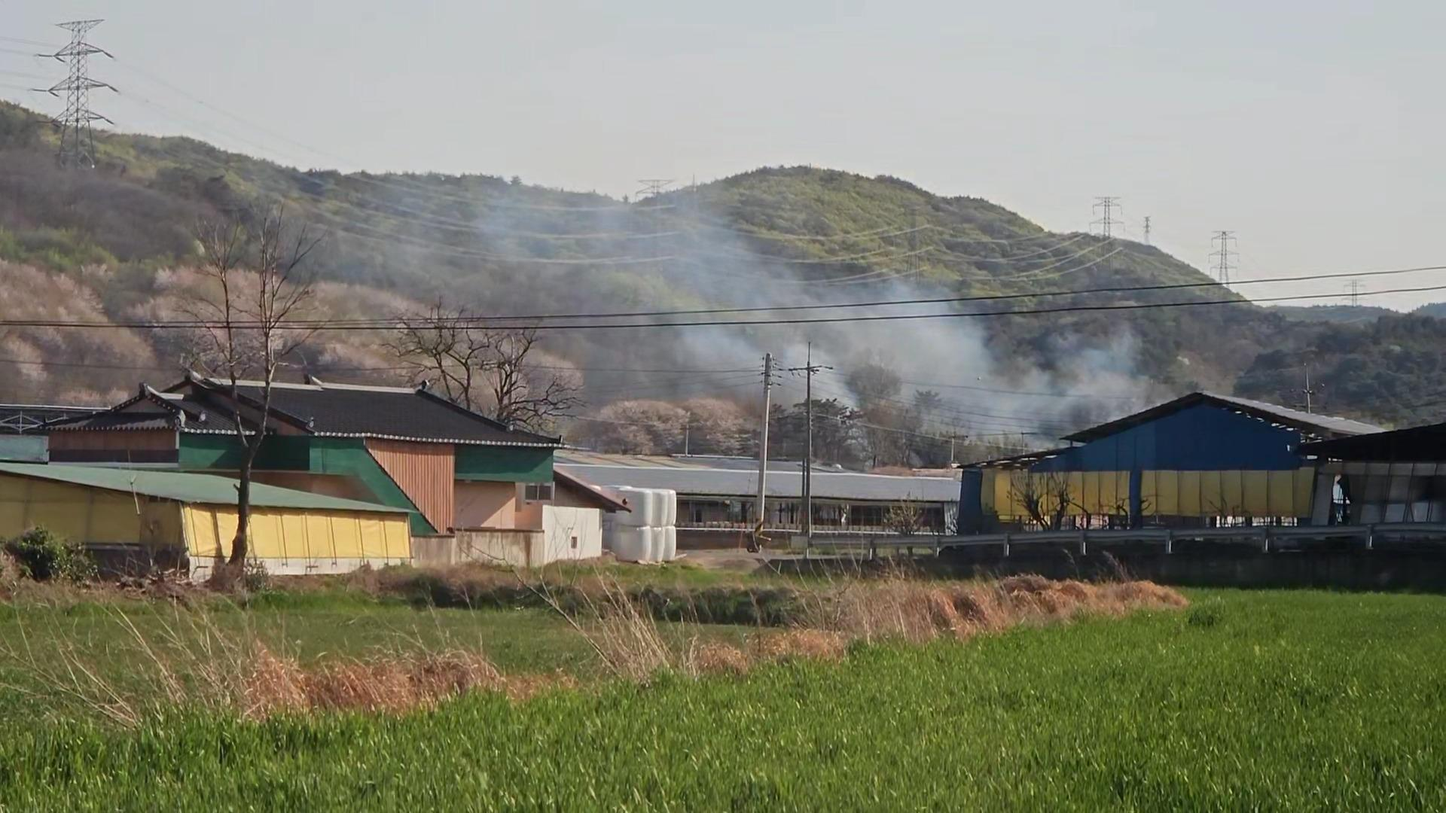smoke: (561, 181, 1078, 434)
